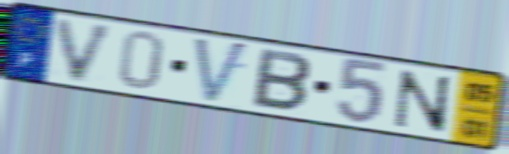0: (115, 29, 166, 93)
5: (334, 56, 389, 128)
B: (249, 45, 314, 115)
N: (393, 67, 452, 137)
V: (53, 16, 119, 86), (191, 35, 252, 108)
